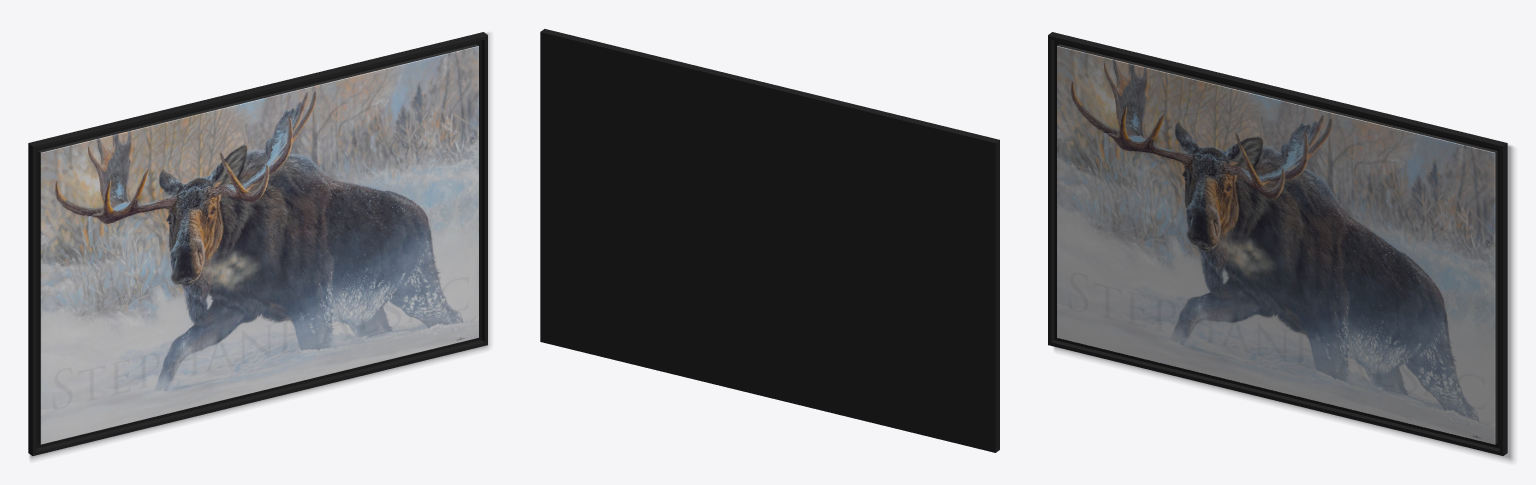
File: tableau-elan-orignal-monumental-bd2ac86a.glb
3 renders of one model, left to right at view 1: azimuth 30°, elevation 25°; view 2: azimuth 150°, elevation 25°; view 3: azimuth 330°, elevation 25°, orthographic.
Visible parts, largest first — view 1: Painting; view 2: Painting; view 3: Painting.
Boxes of the visible parts, bbox=[...] form: Painting: bbox=[28, 32, 489, 459]; Painting: bbox=[540, 29, 999, 452]; Painting: bbox=[1048, 32, 1513, 460].
Bounding box in the file's own units: 2.43 × 1.63 × 0.04.
5 materials, 3 textured.
